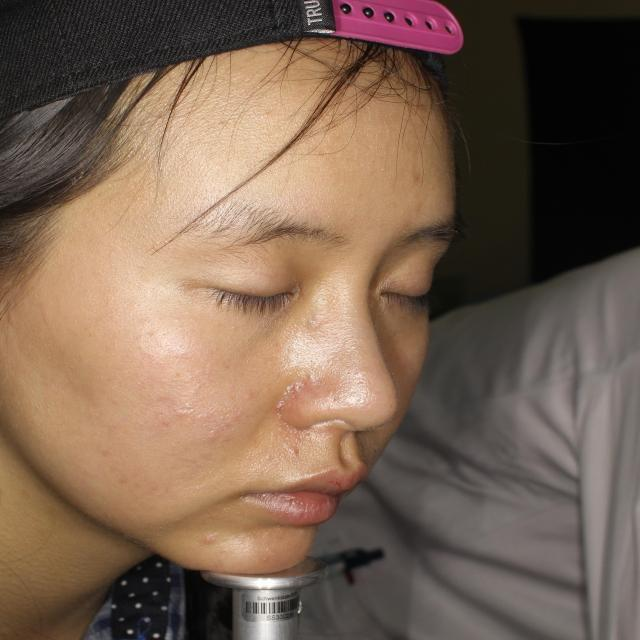acne: (292, 370, 312, 400), (198, 529, 221, 551), (199, 425, 226, 442)
